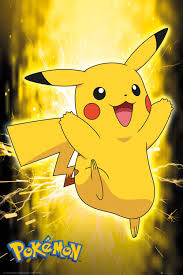pikachu: (8, 25, 174, 240)
